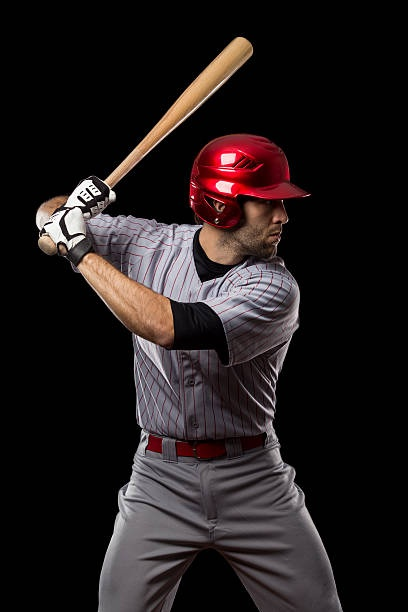bita: (96, 32, 249, 196)
